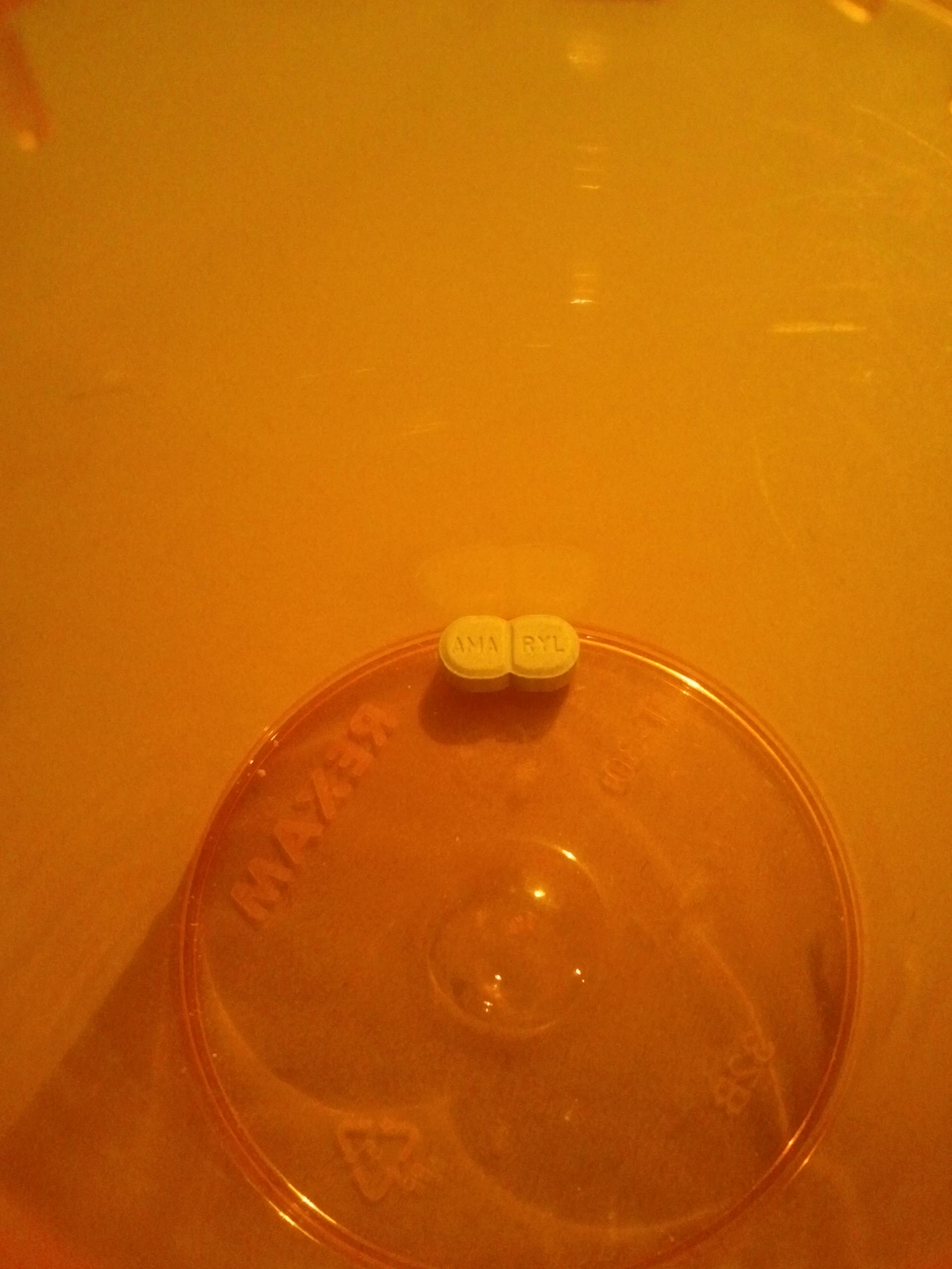Pill: (416, 590, 602, 696)
